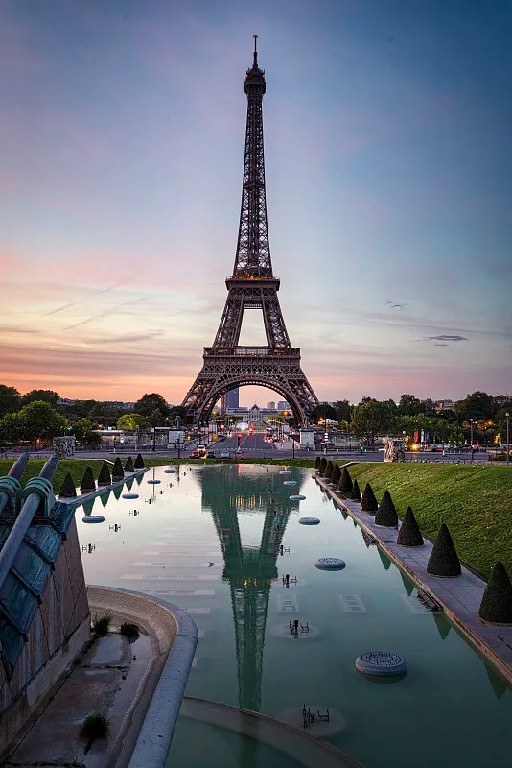Eiffel: (178, 33, 326, 430)
